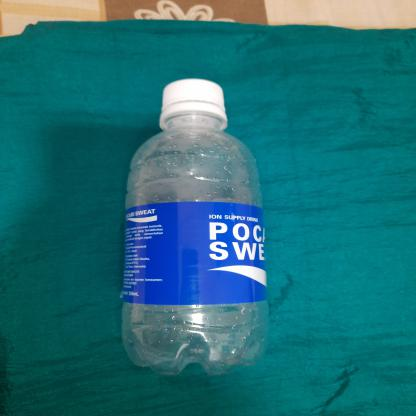bottle: (115, 74, 275, 378)
